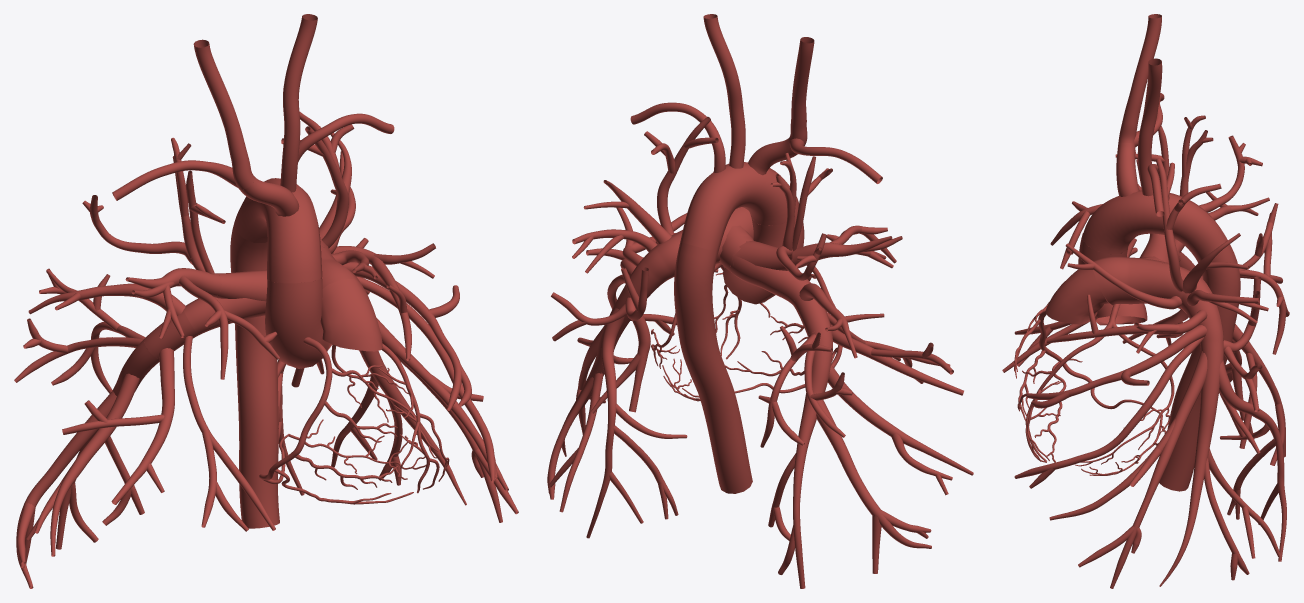
The model's file is thorax-arteries-balanced.glb.
The picture shows the model from 3 angles, left to right: view 1: azimuth 30°, elevation 25°; view 2: azimuth 150°, elevation 25°; view 3: azimuth 270°, elevation 25°; orthographic projection. The views are drawn at different scales.
Visible parts, largest first — view 1: za.thoracic-aorta, za.aortic-arch, za.ascending-aorta, za.anterior-segmental-artery-of-right-lung, za.apical-segmental-artery-of-right-lung, za.pulmonary-trunk, za.superior-segmental-artery-of-right-lung, za.right-coronary-artery, za.lateral-basal-segmental-artery-of-left-lung, za.lateral-segmental-artery-of-right-lung, za.left-common-carotid-artery, za.medial-segmental-artery-of-right-lung (+24 smaller); view 2: za.thoracic-aorta, za.aortic-arch, za.posterior-basal-segmental-artery-of-left-lung, za.superior-segmental-artery-of-right-lung, za.apical-segmental-artery-of-right-lung, za.anterior-basal-segmental-artery-of-right-lung, za.anterior-basal-segmental-artery-of-left-lung, za.posterior-segmental-artery-of-left-lung, za.left-common-carotid-artery, za.left-pulmonary-artery, za.lateral-basal-segmental-artery-of-right-lung, za.anterior-segmental-artery-of-right-lung (+22 smaller); view 3: za.aortic-arch, za.thoracic-aorta, za.lateral-basal-segmental-artery-of-left-lung, za.left-pulmonary-artery, za.anterior-basal-segmental-artery-of-left-lung, za.anterior-segmental-artery-of-left-lung, za.posterior-basal-segmental-artery-of-left-lung, za.bifurcation-of-pulmonary-trunk, za.apical-segmental-artery-of-right-lung, za.pulmonary-trunk, za.superior-lingular-artery-of-left-lung, za.inferior-lingular-artery-of-left-lung (+22 smaller).
Boxes of the visible parts, box(x1,y1,x2,y2) form: za.thoracic-aorta: box(230, 222, 279, 528); za.aortic-arch: box(234, 178, 322, 283); za.ascending-aorta: box(265, 277, 332, 368); za.anterior-segmental-artery-of-right-lung: box(125, 268, 279, 379); za.apical-segmental-artery-of-right-lung: box(82, 137, 225, 274); za.pulmonary-trunk: box(320, 279, 382, 351); za.superior-segmental-artery-of-right-lung: box(14, 268, 145, 393); za.right-coronary-artery: box(259, 337, 413, 504); za.lateral-basal-segmental-artery-of-left-lung: box(376, 318, 518, 522); za.lateral-segmental-artery-of-right-lung: box(62, 348, 174, 504); za.left-common-carotid-artery: box(280, 14, 317, 192); za.medial-segmental-artery-of-right-lung: box(183, 336, 275, 531); za.thoracic-aorta: box(674, 242, 752, 493); za.aortic-arch: box(680, 162, 798, 251); za.posterior-basal-segmental-artery-of-left-lung: box(586, 308, 687, 538); za.superior-segmental-artery-of-right-lung: box(758, 326, 853, 447); za.apical-segmental-artery-of-right-lung: box(770, 153, 832, 280); za.anterior-basal-segmental-artery-of-right-lung: box(816, 399, 931, 573); za.anterior-basal-segmental-artery-of-left-lung: box(547, 365, 604, 512); za.posterior-segmental-artery-of-left-lung: box(572, 180, 671, 273); za.left-common-carotid-artery: box(703, 14, 745, 168); za.left-pulmonary-artery: box(593, 230, 682, 371); za.lateral-basal-segmental-artery-of-right-lung: box(827, 364, 973, 495); za.anterior-segmental-artery-of-right-lung: box(791, 225, 902, 268); za.aortic-arch: box(1082, 190, 1227, 261); za.thoracic-aorta: box(1159, 244, 1240, 491); za.lateral-basal-segmental-artery-of-left-lung: box(1049, 351, 1207, 588); za.left-pulmonary-artery: box(1155, 262, 1223, 444); za.anterior-basal-segmental-artery-of-left-lung: box(1159, 443, 1281, 586); za.anterior-segmental-artery-of-left-lung: box(1046, 243, 1207, 353); za.posterior-basal-segmental-artery-of-left-lung: box(1219, 360, 1286, 561); za.bifurcation-of-pulmonary-trunk: box(1093, 256, 1165, 305); za.apical-segmental-artery-of-right-lung: box(1115, 115, 1262, 212); za.pulmonary-trunk: box(1045, 261, 1109, 324); za.superior-lingular-artery-of-left-lung: box(1027, 325, 1206, 408); za.inferior-lingular-artery-of-left-lung: box(1014, 337, 1203, 488).
Size of the model in its own units: 0.256 by 0.3013 by 0.1658.
